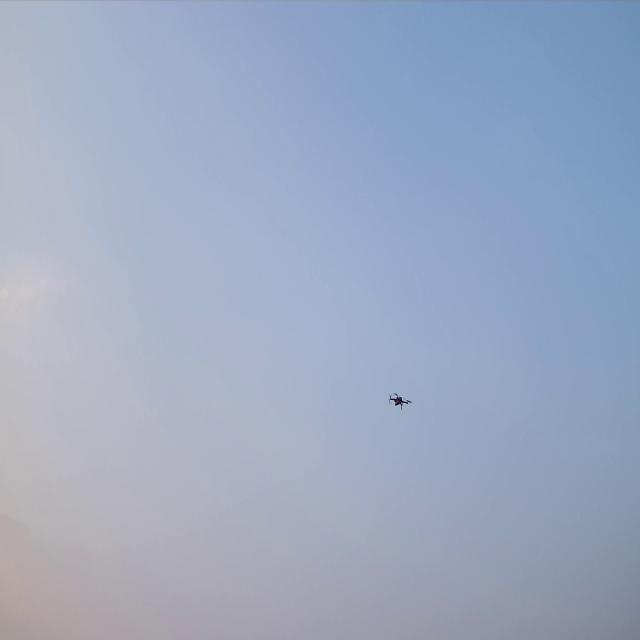UAV: (388, 389, 412, 411)
